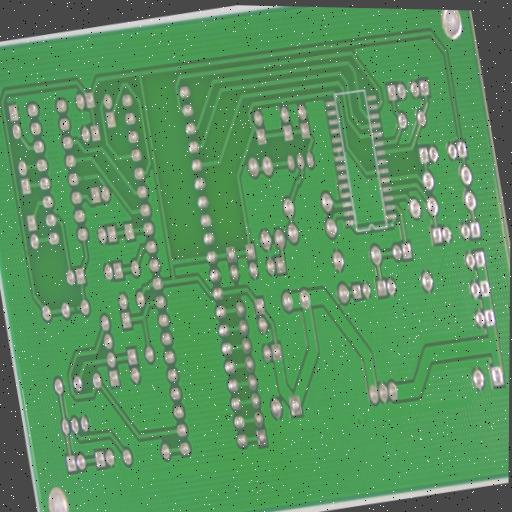open_circuit: (79, 171, 86, 183), (72, 303, 79, 313), (141, 244, 147, 253)
